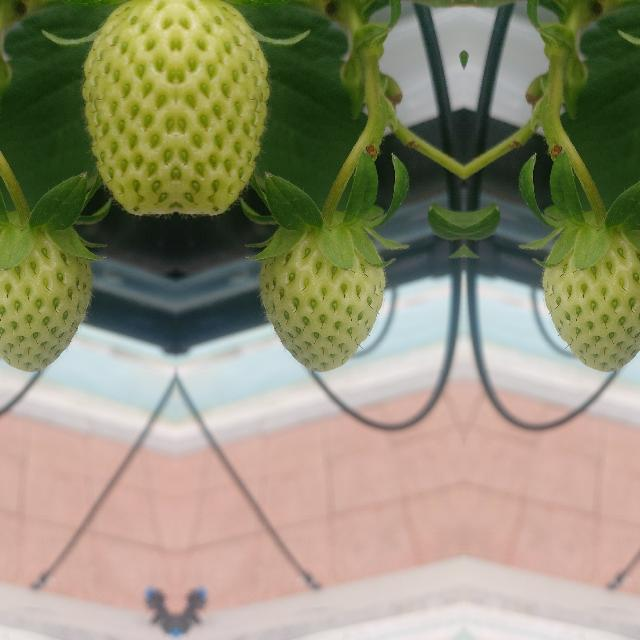Health_25: (175, 0, 269, 210), (81, 0, 175, 210), (258, 228, 384, 372), (542, 228, 640, 371), (0, 228, 91, 371)
